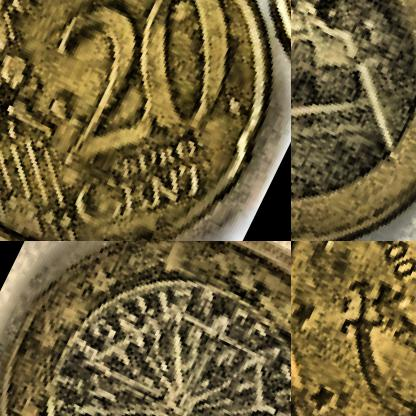coin: (0, 0, 290, 240), (0, 241, 290, 415), (291, 0, 415, 240), (291, 241, 415, 415)
